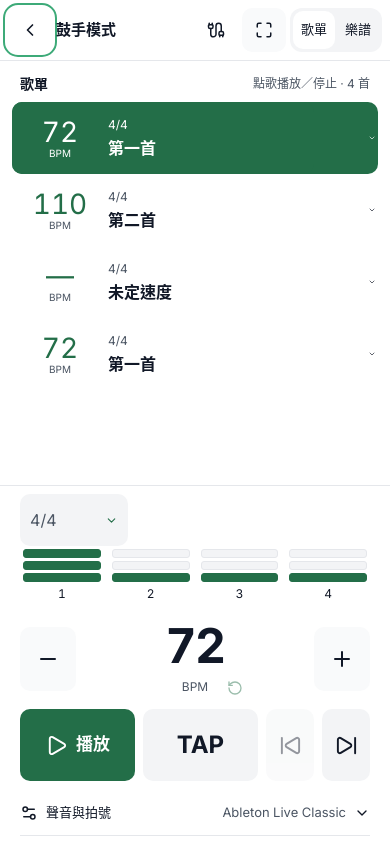
Test: drummer session controls › supports picker arrow navigation and Escape closes only the picker
Click the button named "本曲節拍細分：四分".
click(74, 520)  # box x1=20 y1=494 x2=128 y2=546
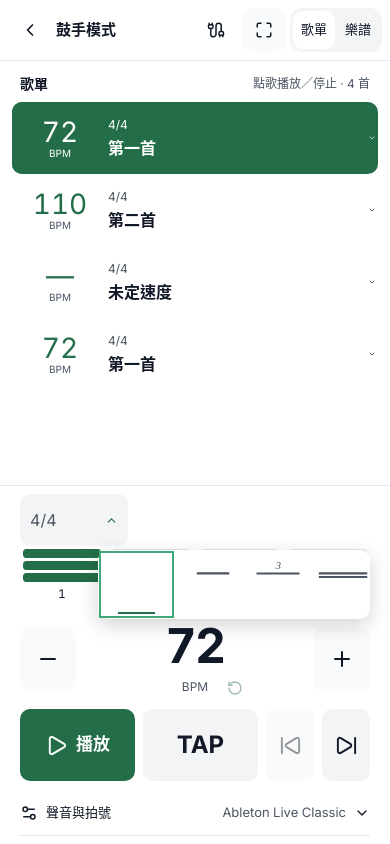
Press ArrowRight in the menu item named "四分", box x1=104 y1=556 x2=169 y2=613
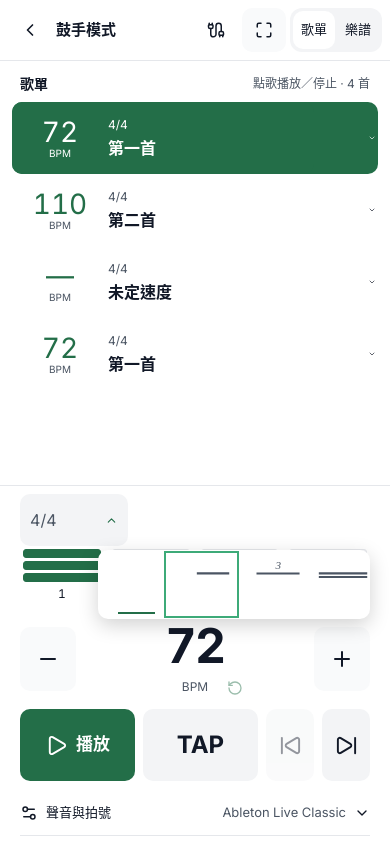
Press Escape in the menu item named "八分", box x1=169 y1=556 x2=234 y2=613
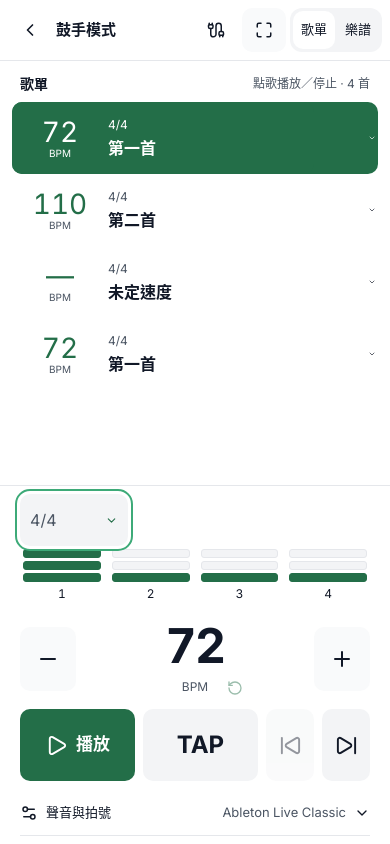
Now the menu is gone
